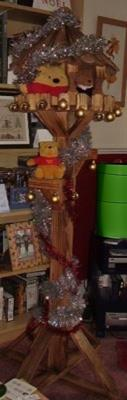pottedplant: (96, 163, 127, 238)
